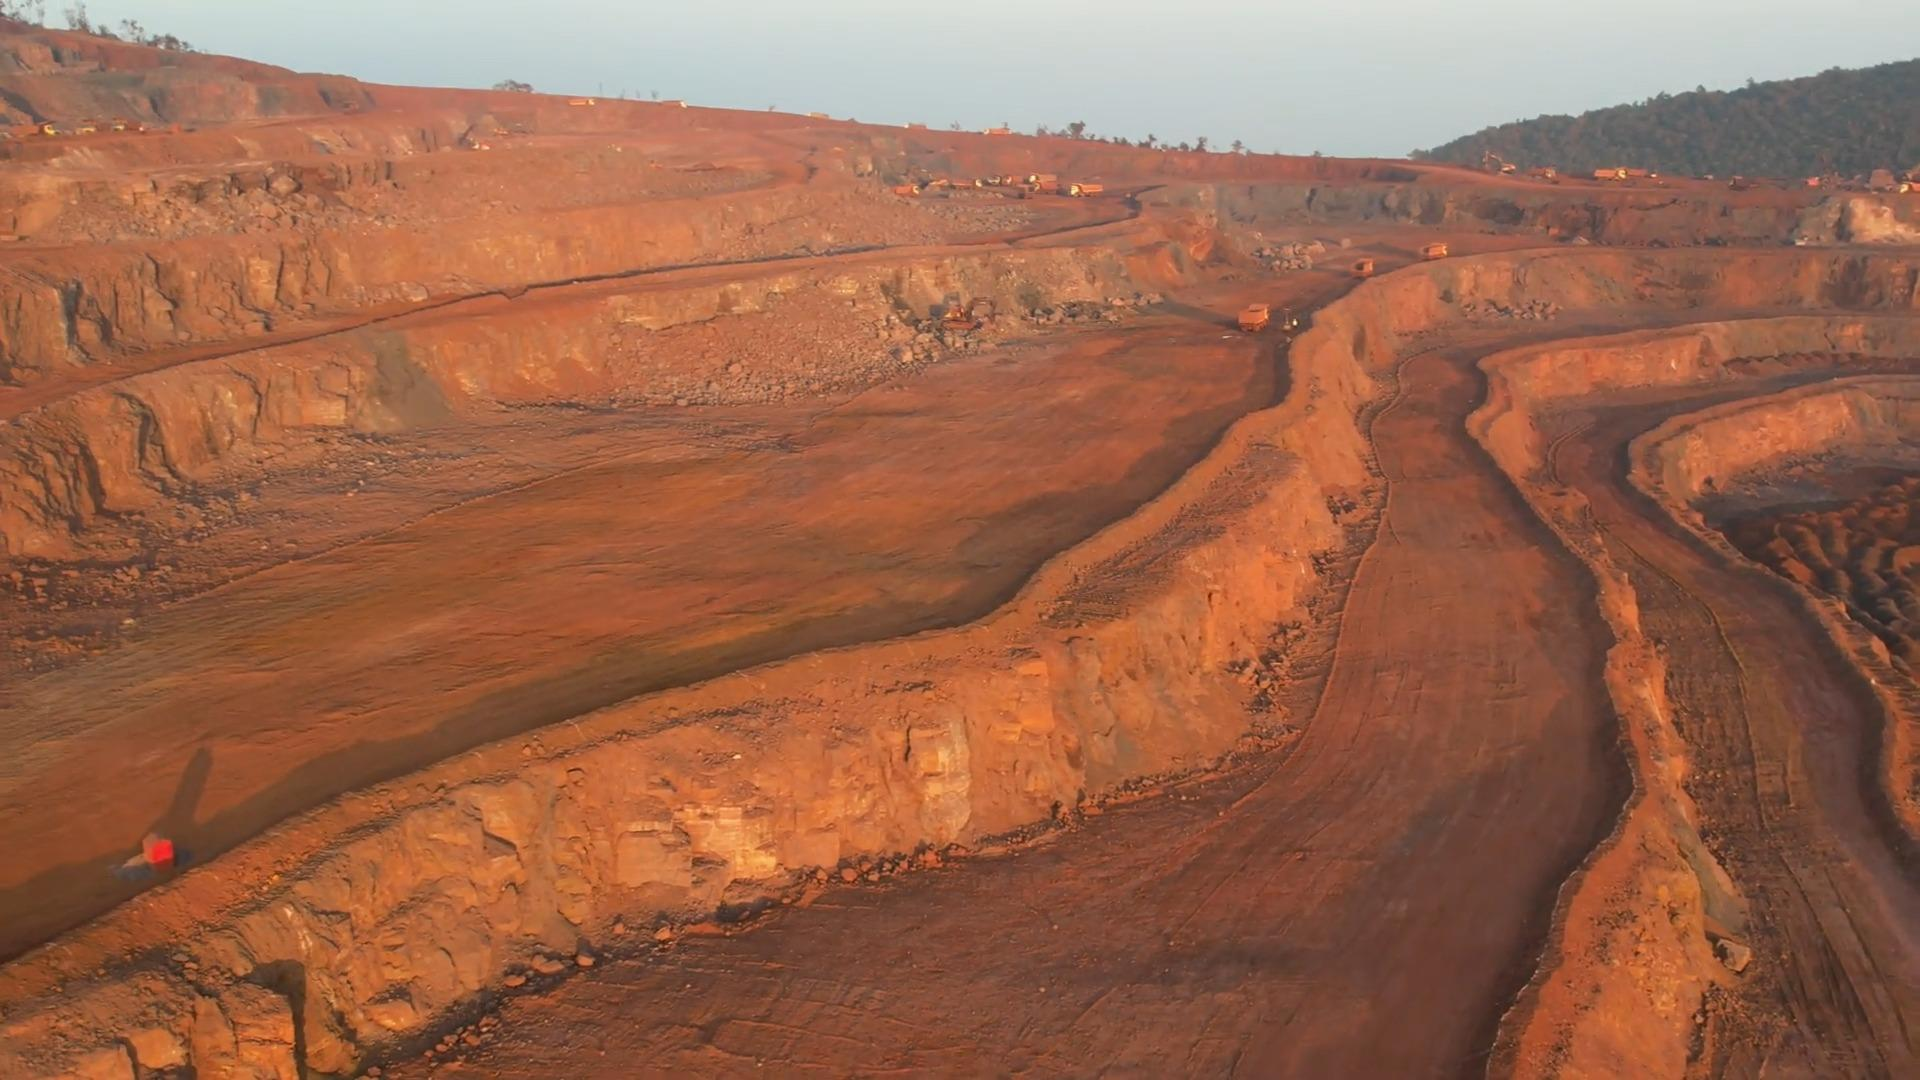excavator: (943, 298, 997, 331)
